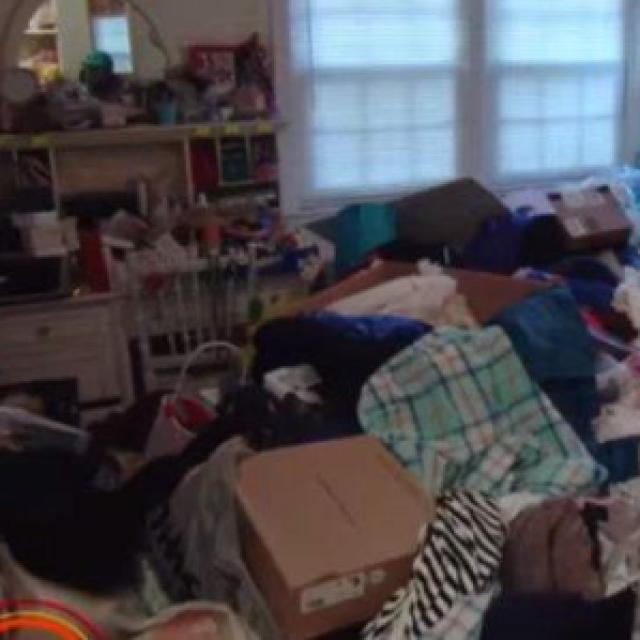mess: (321, 239, 640, 640), (0, 17, 302, 293)
